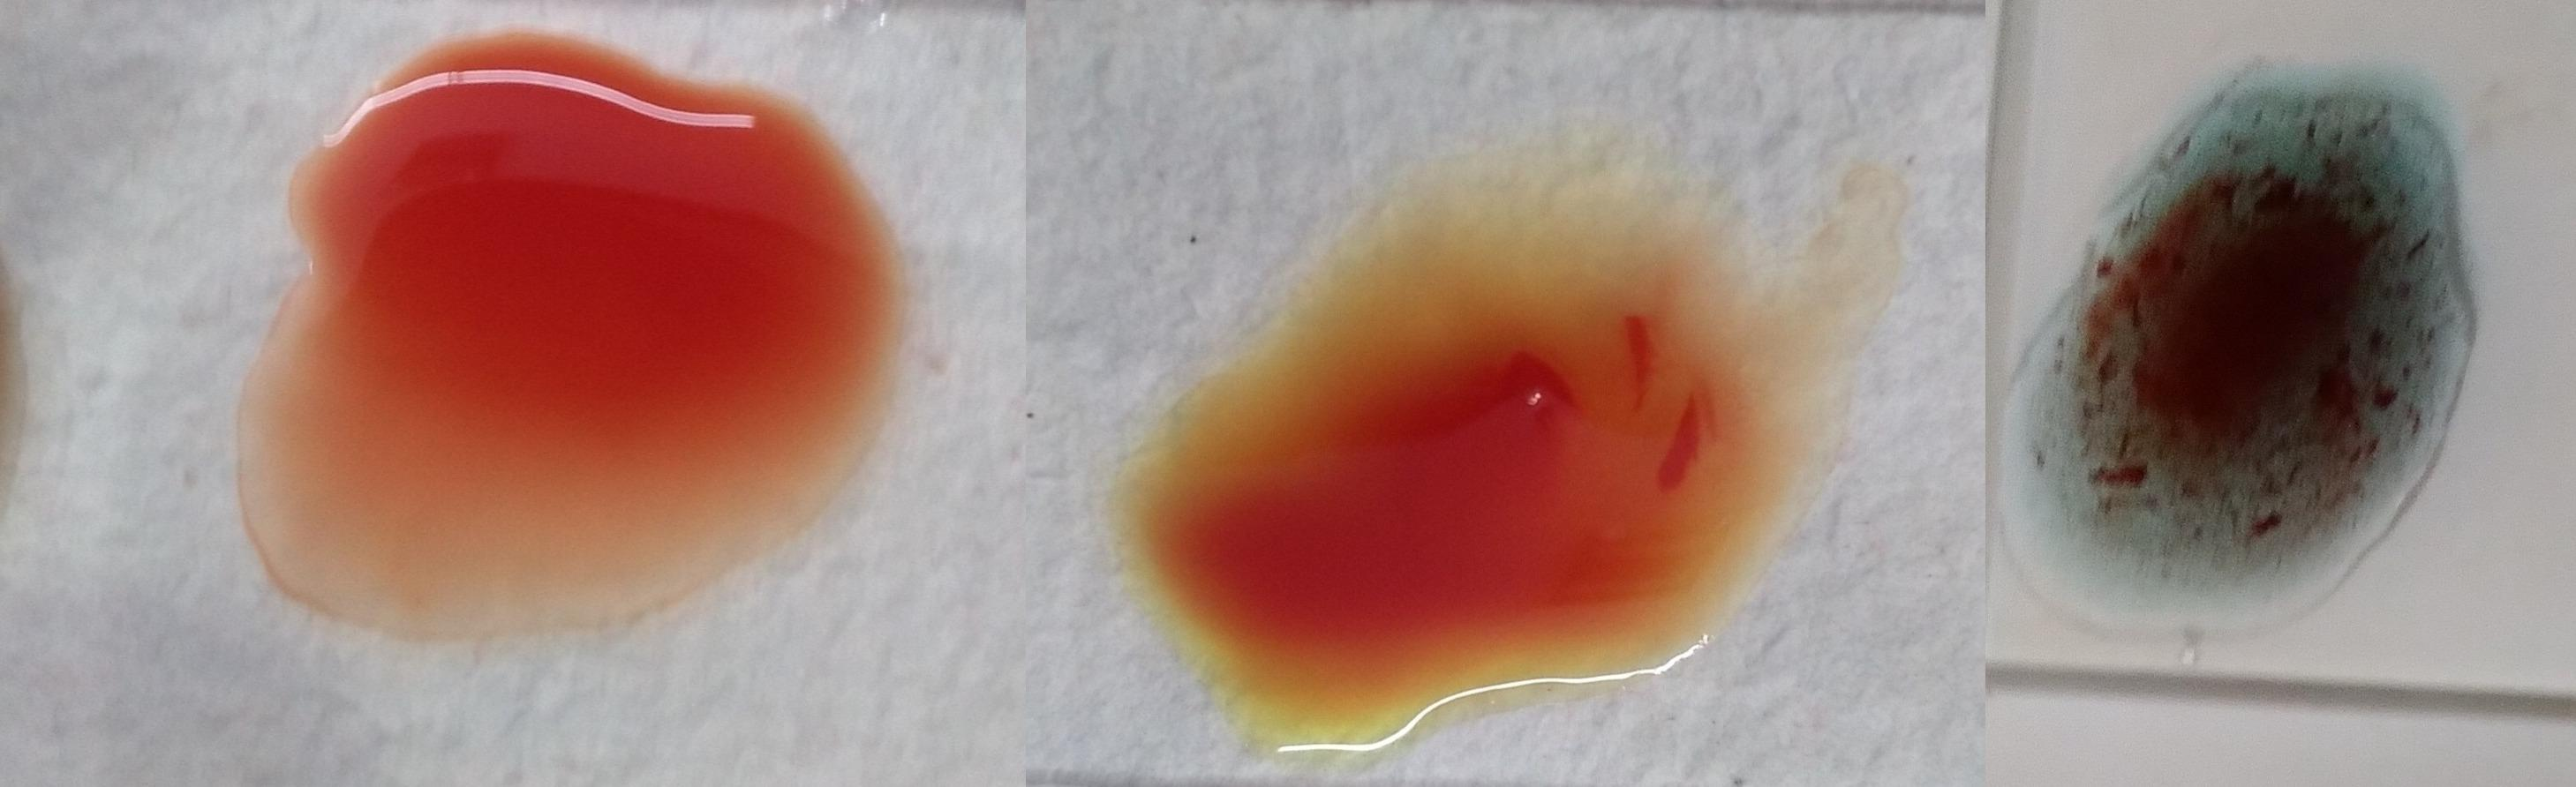A: (2031, 44, 2479, 590)
